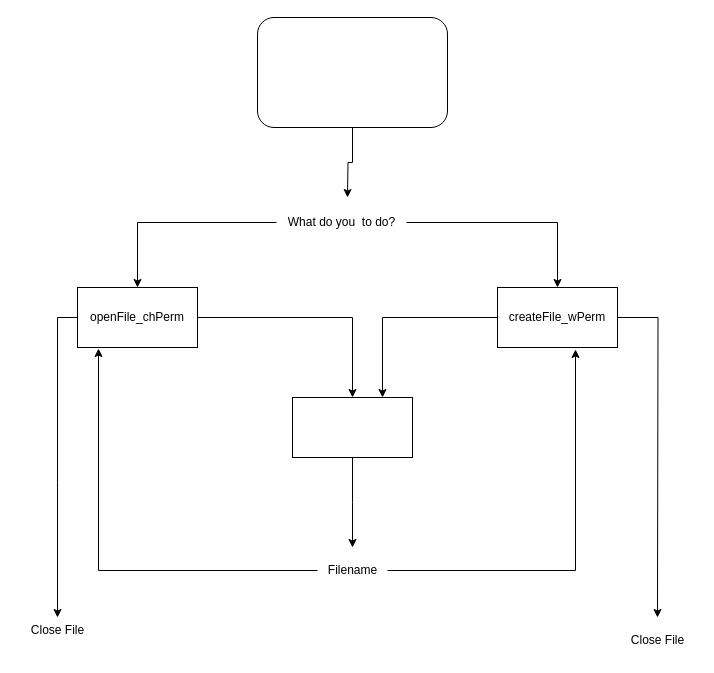
This 714x673 diagram has some shape labels left out. The centre of each missing label's shape, as x and y in pixels:
2nd Menu File Permissons: point (352, 427)
Menu + Frame: point (352, 72)
